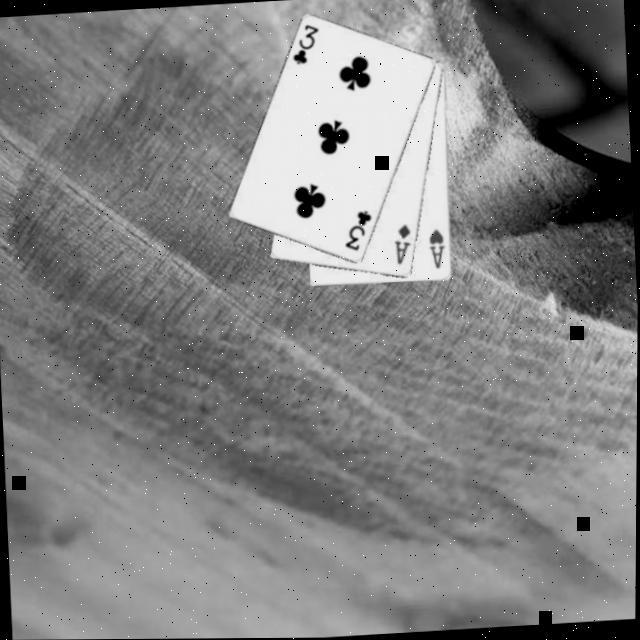3C: (341, 208, 377, 256), (289, 22, 323, 70)
AD: (392, 222, 416, 269)
AH: (426, 227, 449, 273)
